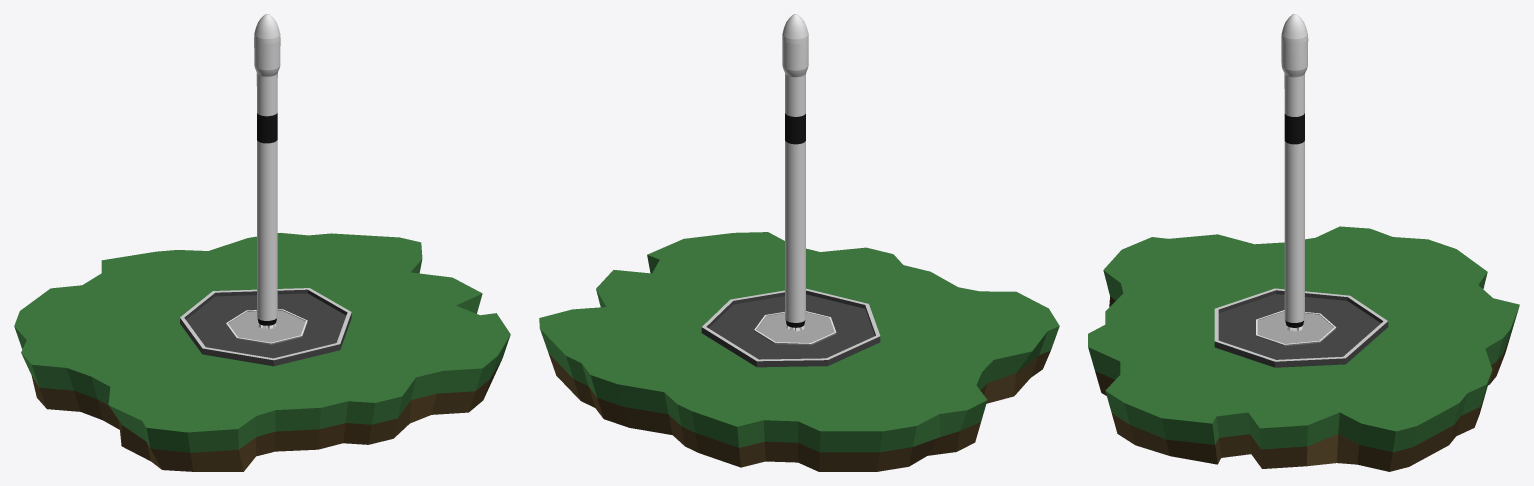
File: falcon91.gltf
3 views of the same model, side by side, from view 1: azimuth 30°, elevation 25°; view 2: azimuth 150°, elevation 25°; view 3: azimuth 270°, elevation 25° (orthographic).
Visible parts, largest first — view 1: Plane, Circle, Cylinder, Cylinder.001, s2e; view 2: Plane, Circle, Cylinder, Cylinder.001, s2e; view 3: Plane, Circle, Cylinder, Cylinder.001, s2e.
Boxes of the visible parts, box(x1,y1,x2,y2) form: Plane: box(14, 233, 510, 471); Circle: box(180, 288, 351, 366); Cylinder: box(254, 14, 280, 325); Cylinder.001: box(226, 309, 307, 344); s2e: box(257, 113, 277, 143); Plane: box(539, 232, 1059, 471); Circle: box(701, 288, 880, 367); Cylinder: box(782, 14, 808, 327); Cylinder.001: box(754, 311, 836, 345); s2e: box(785, 113, 805, 144); Plane: box(1088, 226, 1519, 471); Circle: box(1214, 288, 1388, 367); Cylinder: box(1281, 14, 1308, 327); Cylinder.001: box(1256, 310, 1336, 346); s2e: box(1284, 113, 1304, 144).
Size of the model in its own units: 8.06 by 6.67 by 7.18.
